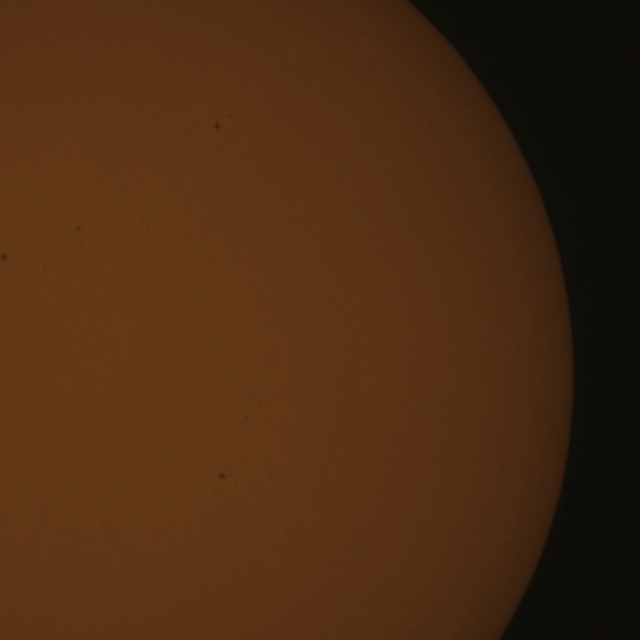sunspot: (0, 250, 10, 265), (213, 120, 222, 132), (74, 221, 82, 233), (218, 472, 226, 481)
